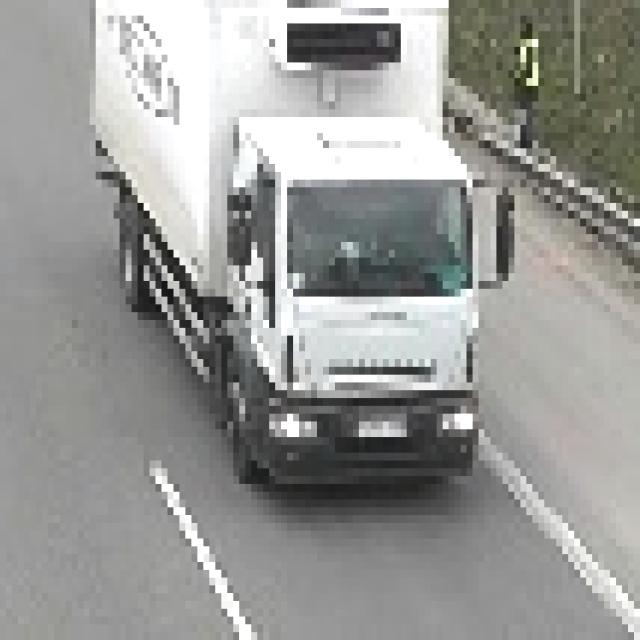truck: (85, 1, 503, 477)
